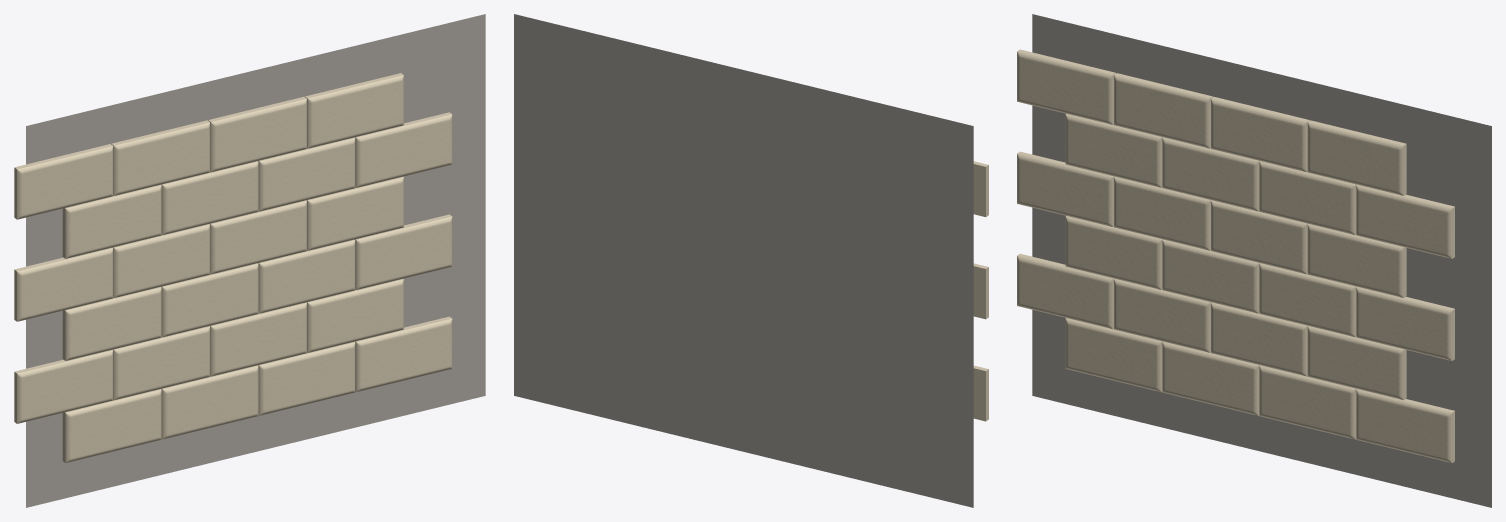
The model's file is terilgan.glb.
3 views of the same model, side by side, from view 1: azimuth 30°, elevation 25°; view 2: azimuth 150°, elevation 25°; view 3: azimuth 330°, elevation 25° (orthographic).
Parts seen in each view (by area): view 1: Plane, t5_0, t1_0, t3_0, t5_1, t5_3, t5_2, t0_0, t4_0, t2_0, t0_3, t4_3 (+13 smaller); view 2: Plane, t1_0, t3_0, t5_0; view 3: Plane, t5_3, t2_3, t0_3, t4_3, t5_1, t5_2, t5_0, t1_3, t3_3, t1_0, t3_0 (+13 smaller).
Part boxes in pixels (box(x1,y1,x2,y2)): Plane: box(26, 14, 485, 507); t5_0: box(14, 144, 113, 219); t1_0: box(14, 349, 113, 423); t3_0: box(14, 247, 113, 321); t5_1: box(111, 120, 210, 195); t5_3: box(305, 73, 403, 148); t5_2: box(208, 96, 306, 172); t0_0: box(62, 389, 161, 463); t4_0: box(62, 184, 161, 258); t2_0: box(62, 287, 161, 360); t0_3: box(355, 316, 452, 392); t4_3: box(355, 112, 452, 187); Plane: box(514, 14, 973, 507); t1_0: box(973, 365, 988, 421); t3_0: box(973, 263, 988, 319); t5_0: box(973, 161, 988, 216); Plane: box(1032, 14, 1491, 507); t5_3: box(1307, 120, 1406, 195); t2_3: box(1356, 287, 1454, 360); t0_3: box(1356, 389, 1454, 462); t4_3: box(1356, 184, 1454, 258); t5_1: box(1114, 73, 1212, 148); t5_2: box(1211, 96, 1309, 172); t5_0: box(1017, 49, 1115, 124); t1_3: box(1307, 326, 1406, 400); t3_3: box(1307, 224, 1406, 297); t1_0: box(1017, 253, 1114, 329); t3_0: box(1017, 151, 1114, 227).
Bounding box in the file's own units: 1.96 × 1.52 × 0.0319.
